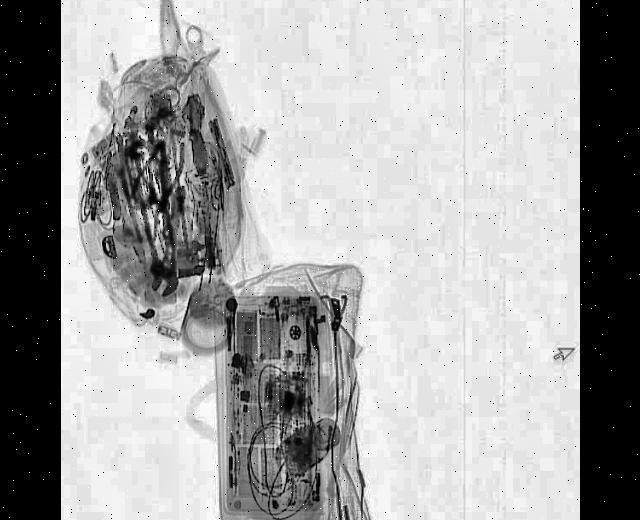Pliers: (138, 139, 184, 245)
Wrench: (147, 181, 195, 299)
